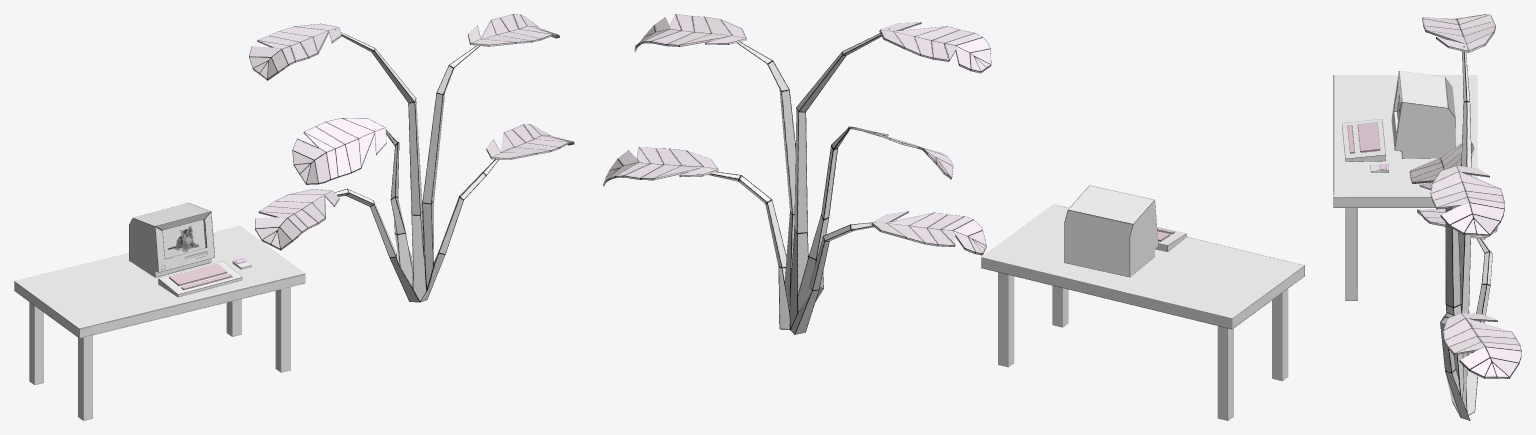
File: newtable03.gltf
The picture shows the model from 3 angles, left to right: view 1: azimuth 30°, elevation 25°; view 2: azimuth 150°, elevation 25°; view 3: azimuth 270°, elevation 25°; orthographic projection. The views are drawn at different scales.
Parts seen in each view (by area): view 1: Palm, Table, Monitor, Keyboard, Screen; view 2: Palm, Table, Monitor; view 3: Palm, Table, Monitor, Keyboard.
Boxes of the visible parts, x1,y1,x2,y2 form: Palm: (249, 14, 574, 302); Table: (14, 226, 305, 420); Monitor: (129, 203, 214, 277); Keyboard: (158, 261, 242, 297); Screen: (162, 219, 205, 257); Palm: (603, 14, 991, 334); Table: (981, 204, 1304, 420); Monitor: (1064, 185, 1158, 277); Palm: (1409, 14, 1521, 420); Table: (1333, 75, 1477, 300); Monitor: (1391, 71, 1455, 158); Keyboard: (1342, 119, 1385, 161).
Bounding box in the file's own units: 272 × 136 × 71.83.
Materials: 11 (11 with a texture image).
